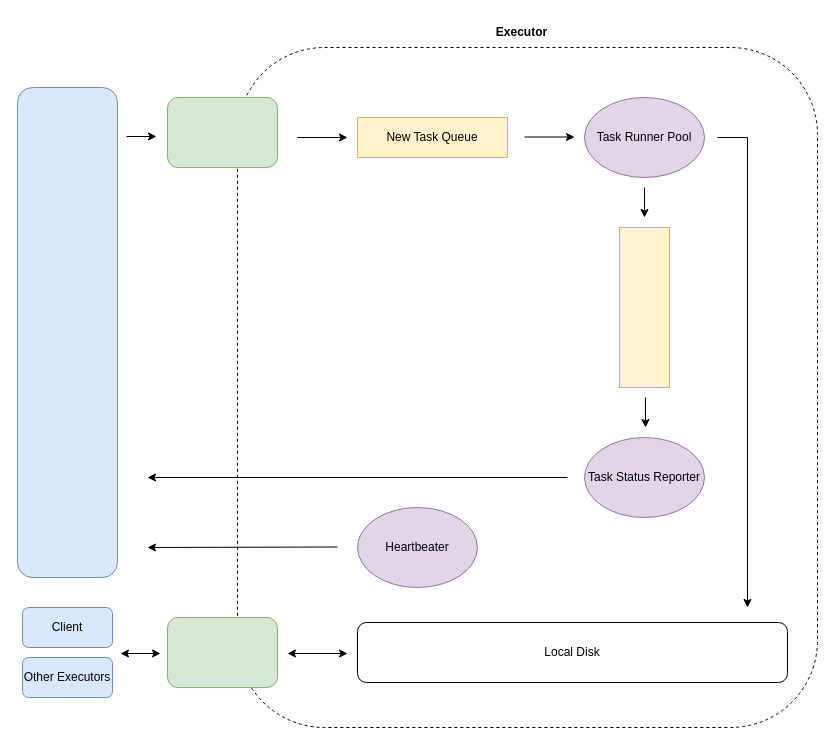
This 835x745 diagram has some shape labels left out. The box of each missing label's shape, as (x1, y1, x2, y2) in pixels:
ExecutorGrpc API: (166, 96, 278, 168)
Flight API: (166, 616, 278, 688)
Scheduler: (16, 86, 118, 578)
Task Status Queue: (618, 226, 670, 388)
